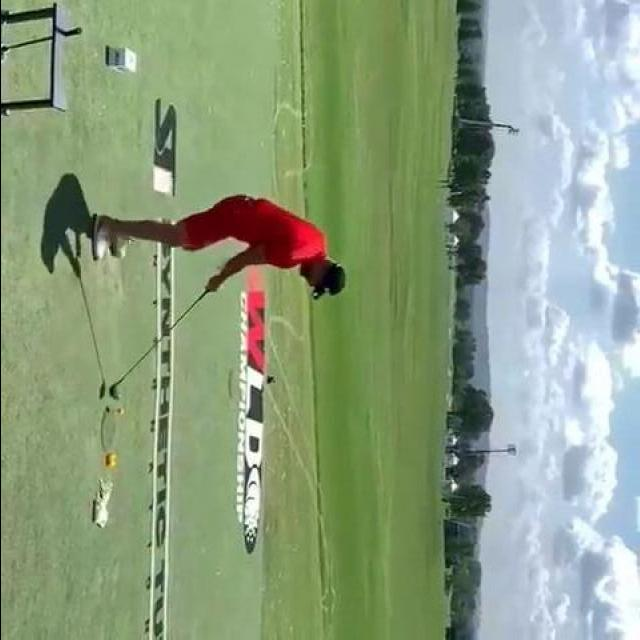ClubHandle: (109, 289, 208, 400)
ClubHead: (110, 386, 120, 399)
GolfBall: (116, 408, 122, 414)
